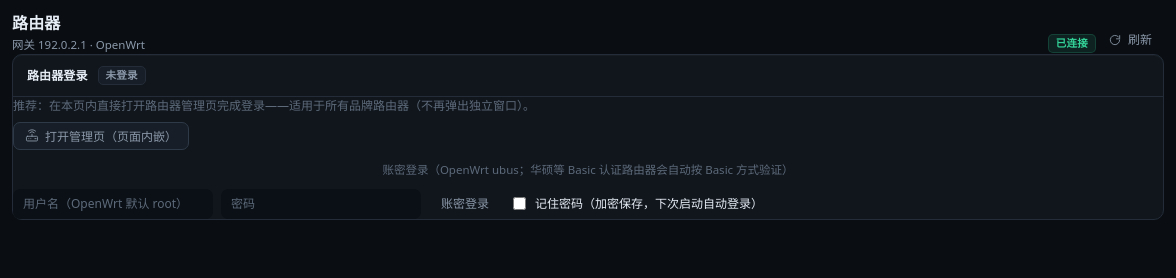
Test: RouterView 会话与账密登录 › 先等待 remember=false 设置保存，再登录；成功清空密码但由推送确认会话
Check: the checkbox labelled "记住密码（加密保存，下次启动自动登录）" is not checked, box x1=513 y1=197 x2=526 y2=210
Type " root " into the field with placeholder "用户名（OpenWrt 默认 root）" at (113, 204), box x1=13 y1=189 x2=213 y2=219
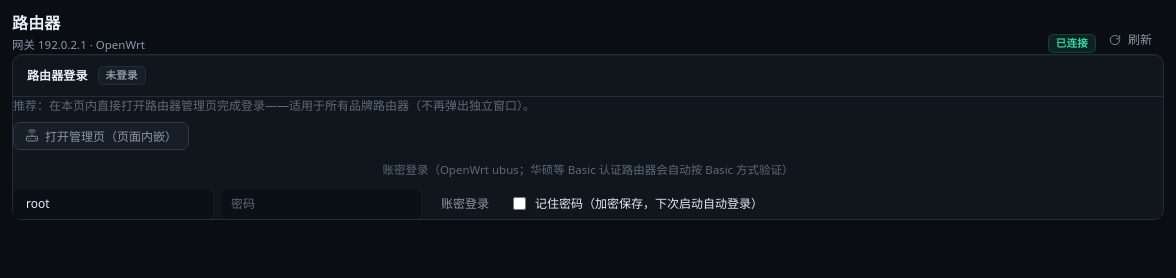
Type "test-only-password" into the password field with placeholder "密码" at (321, 204), box x1=221 y1=189 x2=421 y2=219
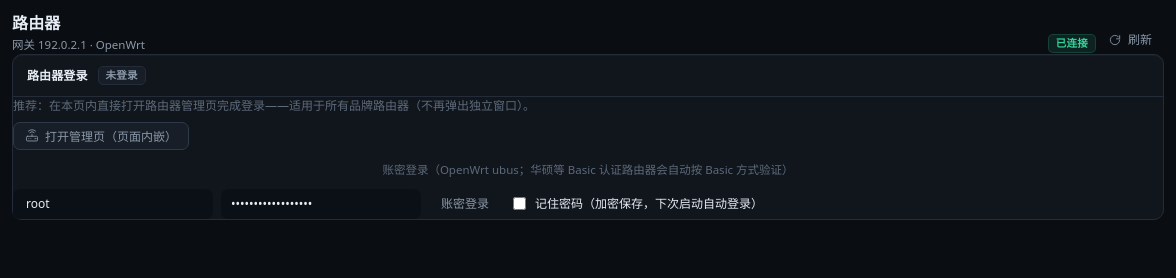
Click the button "账密登录" at (465, 204), box x1=429 y1=190 x2=501 y2=218
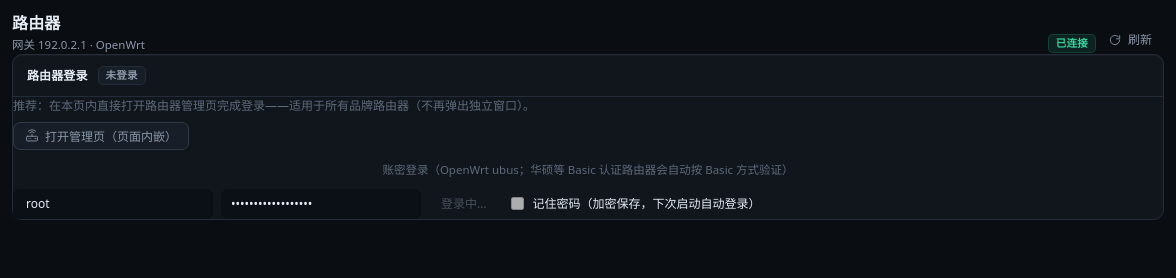
Check: the button "登录中…" is disabled
Check: the checkbox labelled "记住密码（加密保存，下次启动自动登录）" is disabled, box x1=510 y1=197 x2=524 y2=210
Click the button "登录中…" at (464, 204), box x1=429 y1=190 x2=498 y2=218
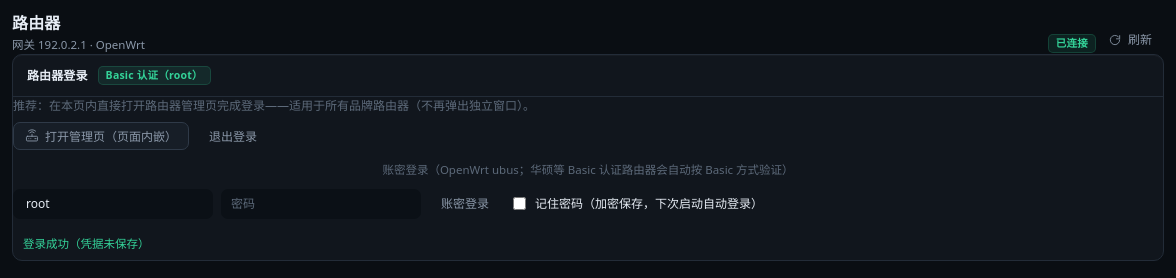
Check: the password field with placeholder "密码" is empty, box x1=221 y1=189 x2=421 y2=219
Check: the text "登录成功（凭据未保存）" is shown, box x1=23 y1=236 x2=150 y2=251
Check: the text "Basic 认证（root）" is shown, box x1=98 y1=66 x2=211 y2=85
